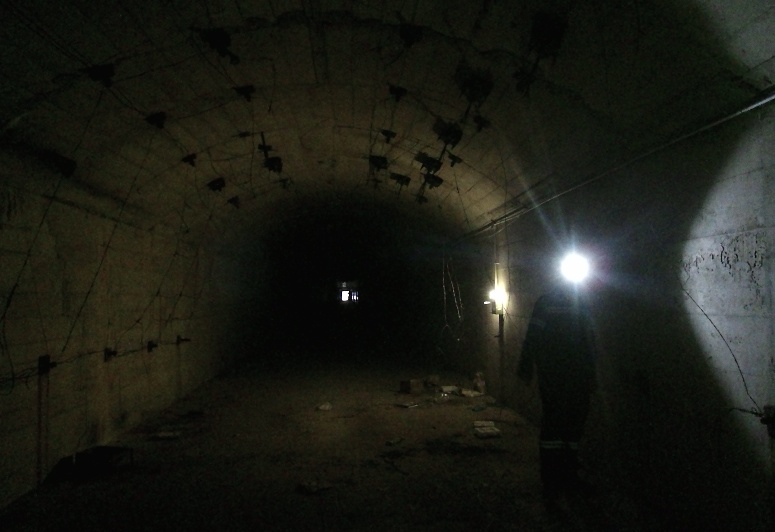person: (530, 254, 602, 507)
